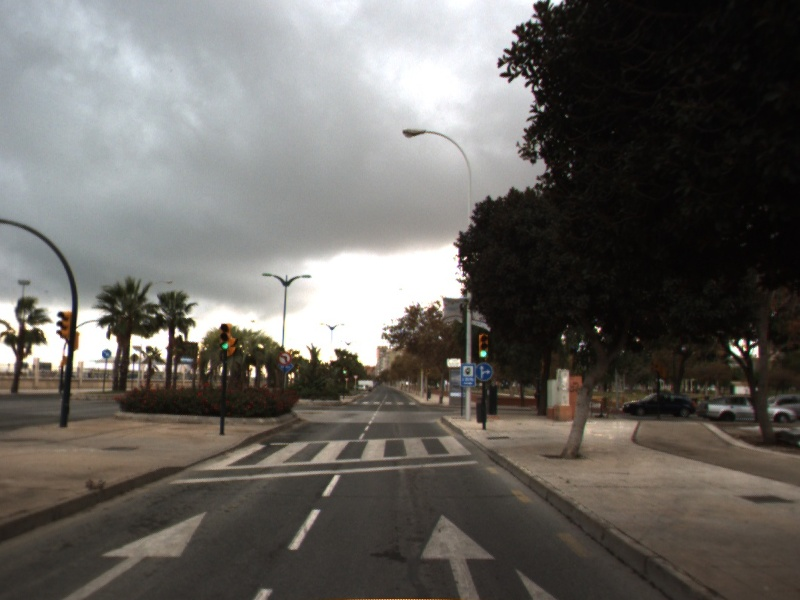STRAIGHT: (51, 508, 210, 600), (416, 511, 500, 600)
